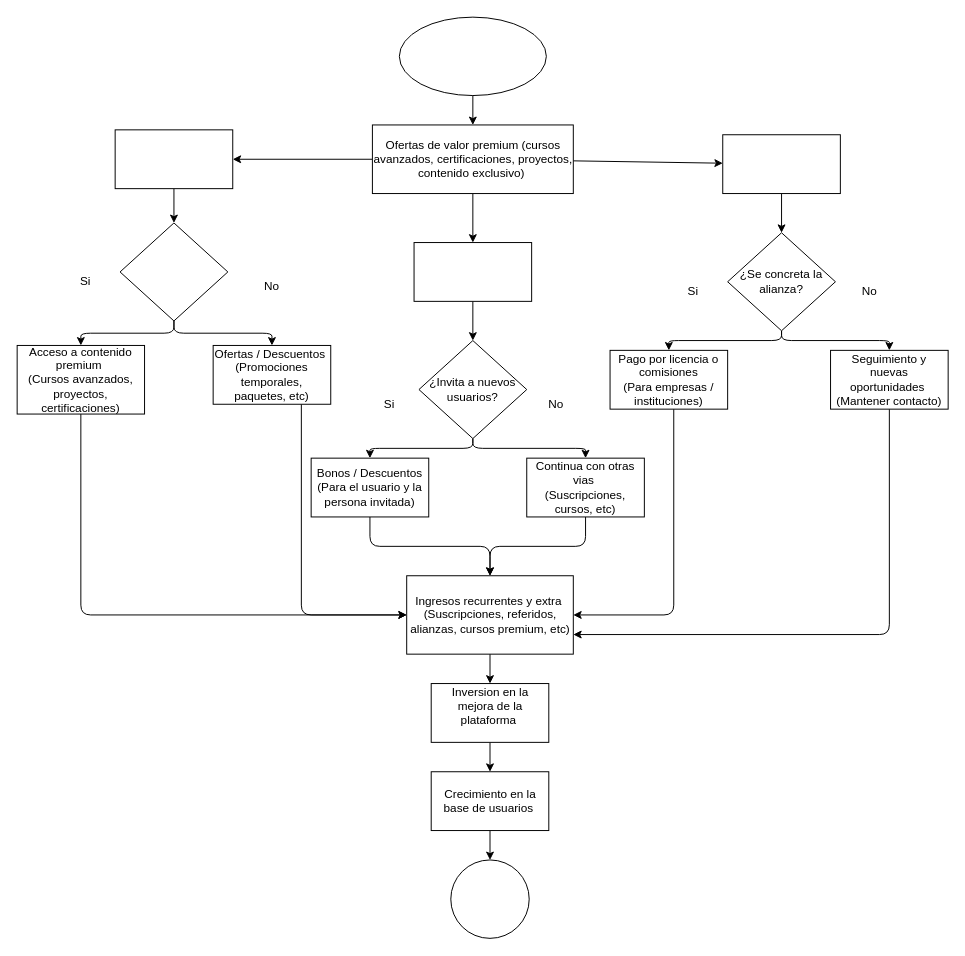
The diagram is 965 pixels wide and 956 high, and some of its shapes have lost their labels. The centre of each missing label's shape, as x and y in pixels:
"Alianzas estrategicas (Escuela, empresas, plataformas)" belongs at point (781, 164).
"Fin" belongs at point (489, 898).
"Inicio Usuario activos y comprometidos" belongs at point (472, 56).
"Programa de referidos (Invitar amigos y ganar beneficios)" belongs at point (472, 271).
"Suscripciones de pago (Mensual/Anual)" belongs at point (173, 159).
"¿El usuario se suscribe?" belongs at point (173, 271).
